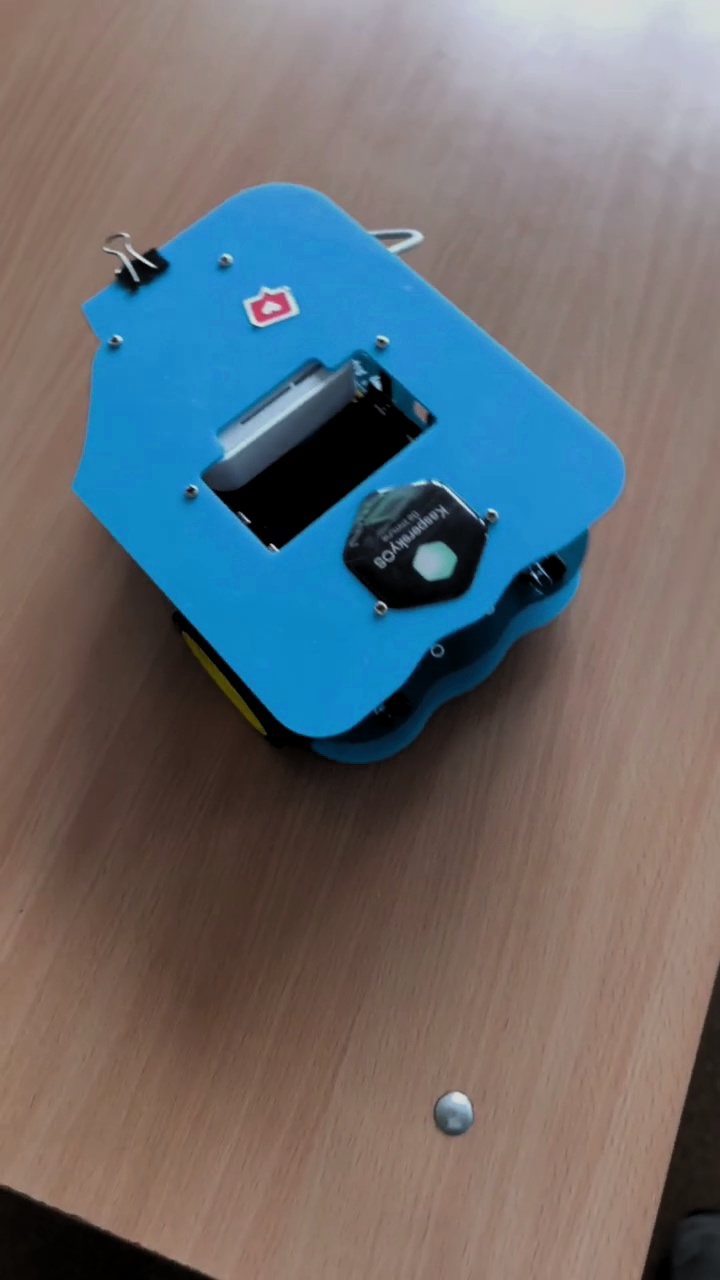robot: (69, 179, 628, 769)
